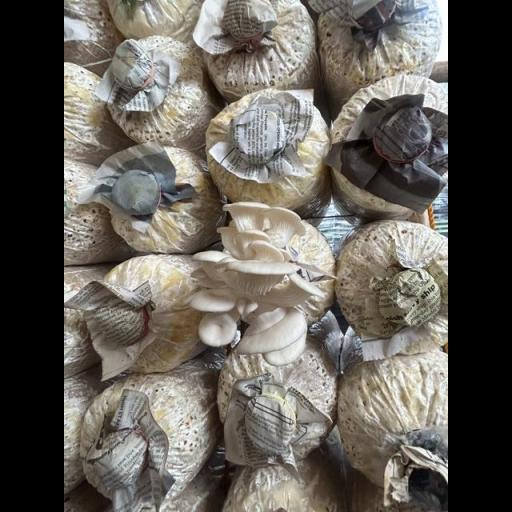White Oyster Mushroom: (185, 202, 337, 361)
